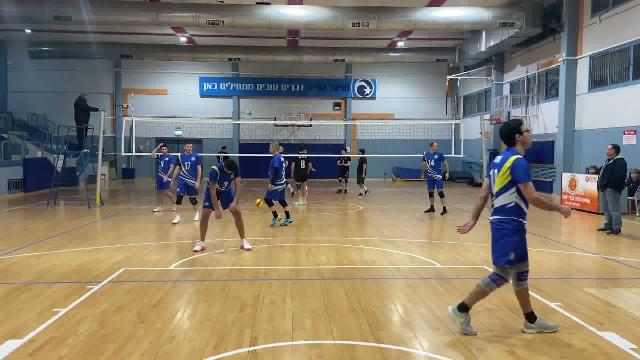ball: (253, 197, 266, 209)
